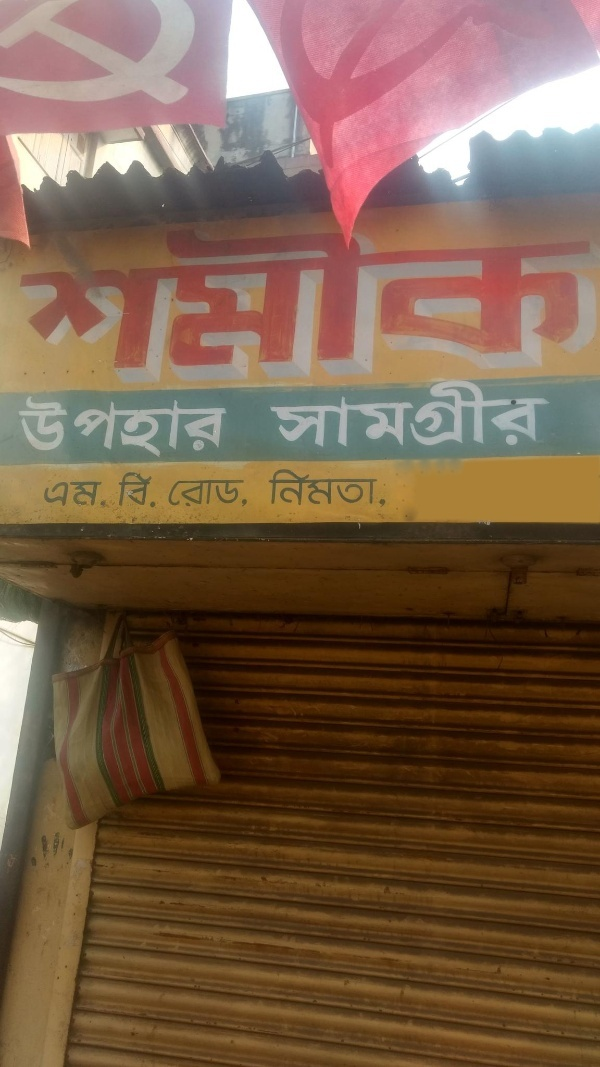text: (17, 207, 32, 390), (33, 207, 48, 390), (49, 207, 64, 390), (65, 207, 80, 390), (81, 207, 96, 390), (97, 207, 112, 390), (113, 207, 128, 390), (129, 207, 144, 390), (145, 207, 160, 390), (161, 207, 176, 390), (177, 207, 192, 390), (193, 207, 208, 390), (209, 207, 224, 390), (225, 207, 240, 390), (241, 207, 256, 390), (257, 207, 272, 390), (273, 207, 288, 390), (289, 207, 304, 390), (305, 207, 320, 390), (321, 207, 336, 390), (337, 207, 352, 390), (353, 207, 368, 390), (369, 207, 384, 390), (385, 207, 400, 390), (401, 207, 416, 390), (417, 207, 432, 390), (433, 207, 448, 390), (449, 207, 464, 390), (465, 207, 480, 390), (481, 207, 496, 390), (497, 207, 512, 390), (513, 207, 528, 390), (529, 207, 544, 390), (545, 207, 560, 390), (561, 207, 576, 390), (577, 207, 592, 390), (289, 1, 304, 178), (305, 1, 320, 178), (321, 1, 336, 178), (337, 1, 352, 178), (353, 1, 368, 178), (369, 1, 384, 178), (385, 1, 400, 178), (401, 1, 416, 178), (417, 1, 432, 178), (433, 1, 448, 178), (449, 1, 464, 178), (465, 1, 480, 178), (481, 1, 496, 178), (497, 1, 512, 178), (274, 1, 288, 178), (513, 1, 524, 178), (17, 2, 32, 110), (33, 2, 48, 110), (49, 2, 64, 110), (65, 2, 80, 110), (81, 2, 96, 110), (97, 2, 112, 110), (113, 2, 128, 110), (129, 2, 144, 110), (145, 2, 160, 110), (161, 2, 176, 110), (177, 2, 192, 110), (2, 2, 16, 110), (273, 377, 288, 457), (289, 377, 304, 457), (305, 377, 320, 457), (321, 377, 336, 457), (337, 377, 352, 457), (353, 377, 368, 457), (369, 377, 384, 457), (385, 377, 400, 457), (401, 377, 416, 457), (417, 377, 432, 457), (433, 377, 448, 457), (449, 377, 464, 457), (465, 377, 480, 457), (481, 377, 496, 457), (497, 377, 512, 457), (513, 377, 528, 457), (529, 377, 544, 457), (17, 393, 32, 463), (33, 393, 48, 463), (49, 393, 64, 463), (65, 393, 80, 463), (81, 393, 96, 463), (97, 393, 112, 463), (113, 393, 128, 463), (129, 393, 144, 463), (145, 393, 160, 463), (161, 393, 176, 463), (177, 393, 192, 463), (193, 393, 208, 463), (209, 393, 224, 463), (545, 377, 557, 457), (11, 207, 16, 390), (593, 207, 597, 390), (129, 469, 144, 514), (145, 469, 160, 514), (273, 467, 288, 511), (289, 467, 304, 511), (305, 467, 320, 511), (321, 467, 336, 511), (337, 467, 352, 511), (353, 467, 368, 511), (369, 467, 384, 511), (49, 477, 64, 512), (65, 477, 80, 512), (81, 477, 96, 512), (97, 477, 112, 512), (177, 477, 192, 512), (193, 477, 208, 512), (209, 477, 224, 512), (225, 477, 240, 512), (241, 477, 256, 512), (119, 469, 128, 514), (225, 393, 230, 463), (268, 377, 272, 457), (168, 477, 176, 512), (267, 467, 272, 511), (385, 467, 389, 511), (43, 477, 48, 512), (193, 2, 194, 110), (113, 477, 115, 512), (161, 469, 162, 514), (257, 477, 258, 512)
